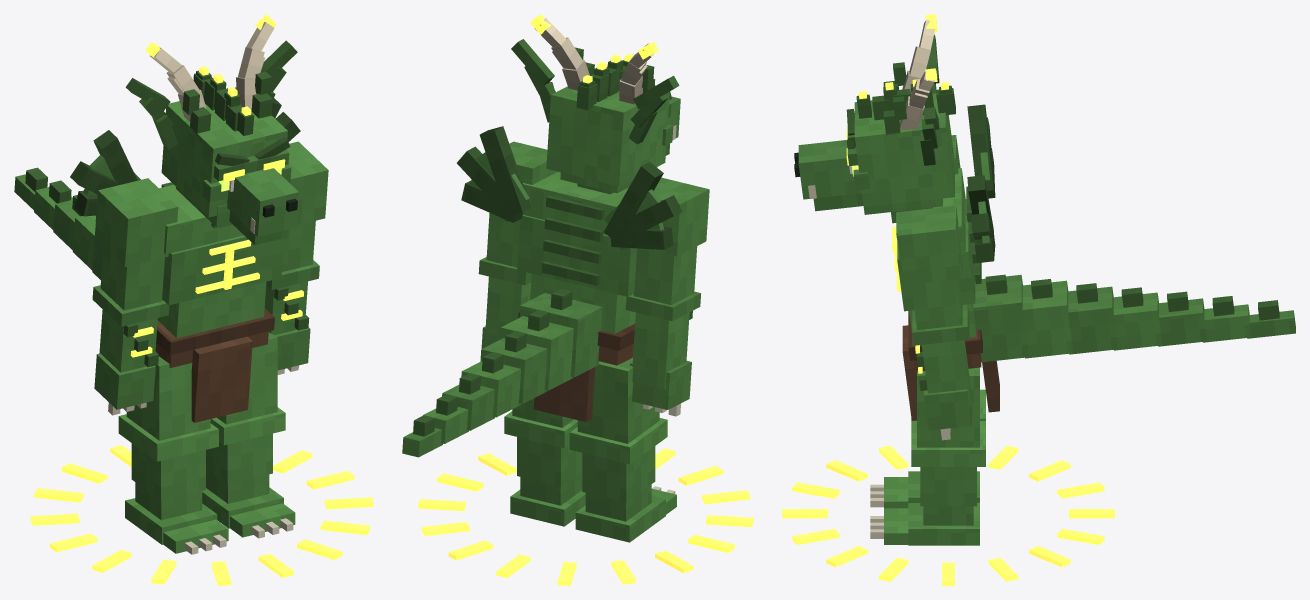
File: lizard_base_v2_evo3.glb
3 renders of one model, left to right at view 1: azimuth 30°, elevation 25°; view 2: azimuth 150°, elevation 25°; view 3: azimuth 270°, elevation 25°, orthographic. The views are drawn at different scales.
Visible parts, largest first — view 1: Torso, Head, ArmR, LegR, LegL, ArmL, Root; view 2: Torso, Head, LegR, ArmR, LegL, Root, ArmL; view 3: Torso, Head, ArmL, LegL, Root, LegR.
Boxes of the visible parts, bbox=[...] form: Torso: bbox=[14, 98, 300, 422]; Head: bbox=[125, 14, 298, 245]; ArmR: bbox=[92, 178, 178, 415]; LegR: bbox=[118, 356, 228, 553]; LegL: bbox=[202, 332, 295, 537]; ArmL: bbox=[264, 141, 328, 374]; Root: bbox=[30, 445, 373, 585]; Torso: bbox=[402, 126, 682, 457]; Head: bbox=[511, 14, 680, 194]; LegR: bbox=[569, 357, 676, 542]; ArmR: bbox=[625, 177, 709, 416]; LegL: bbox=[504, 398, 585, 526]; Root: bbox=[418, 448, 753, 585]; ArmL: bbox=[478, 141, 557, 348]; Torso: bbox=[892, 104, 1295, 420]; Head: bbox=[794, 14, 955, 223]; ArmL: bbox=[897, 205, 971, 440]; LegL: bbox=[884, 367, 985, 545]; Root: bbox=[782, 445, 1114, 585]; LegR: bbox=[884, 389, 985, 508].
Bounding box in the file's own units: 1.16 × 1.83 × 1.79.
Materials: 28 (28 with a texture image).
